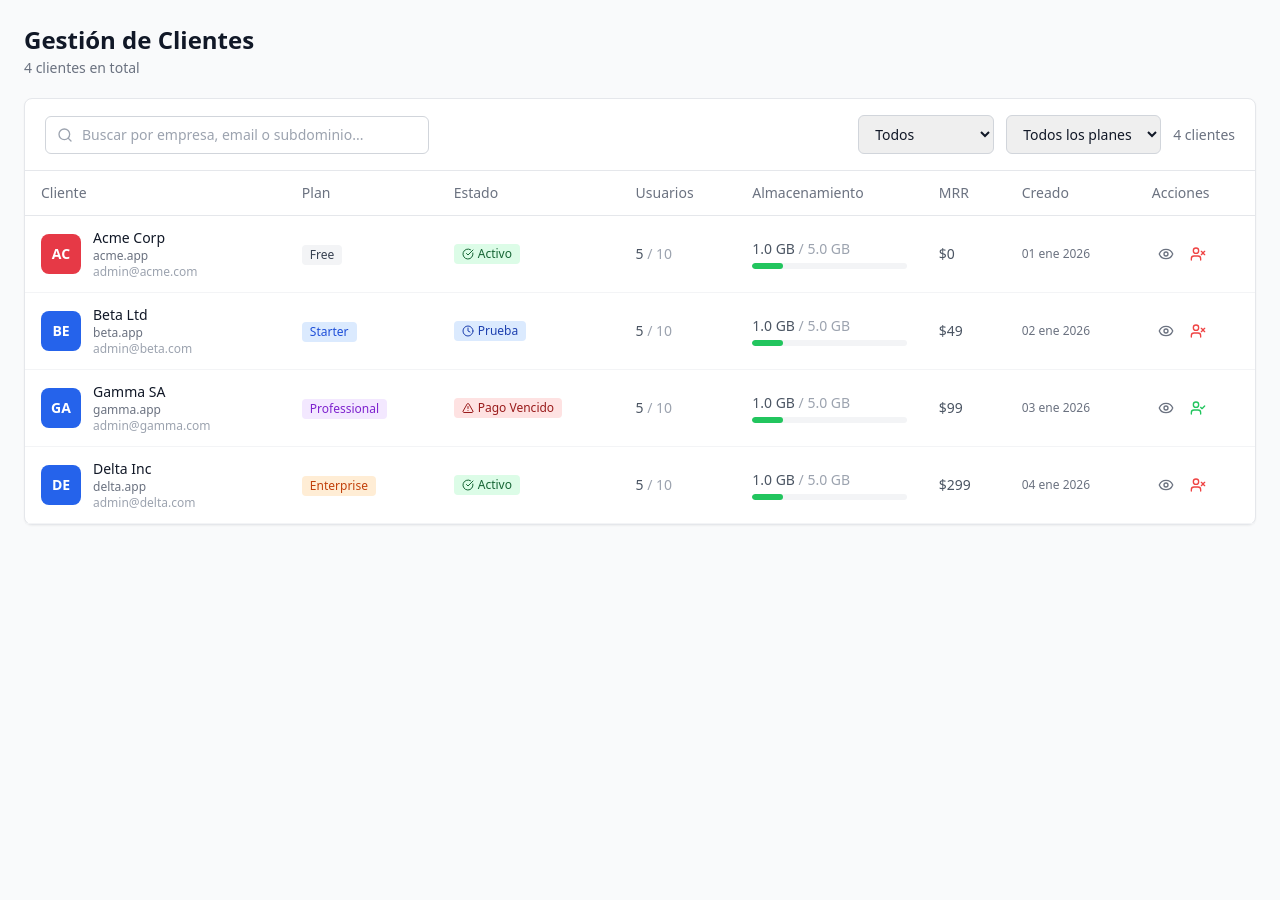
Test: ClientsPage › suspender muestra modal de confirmación y cancelar lo cierra
Click Suspender en la primera fila activa
Click the button titled "Suspender" in the row of "Acme Corp" at point(1198, 254), box [1184, 240, 1212, 268]
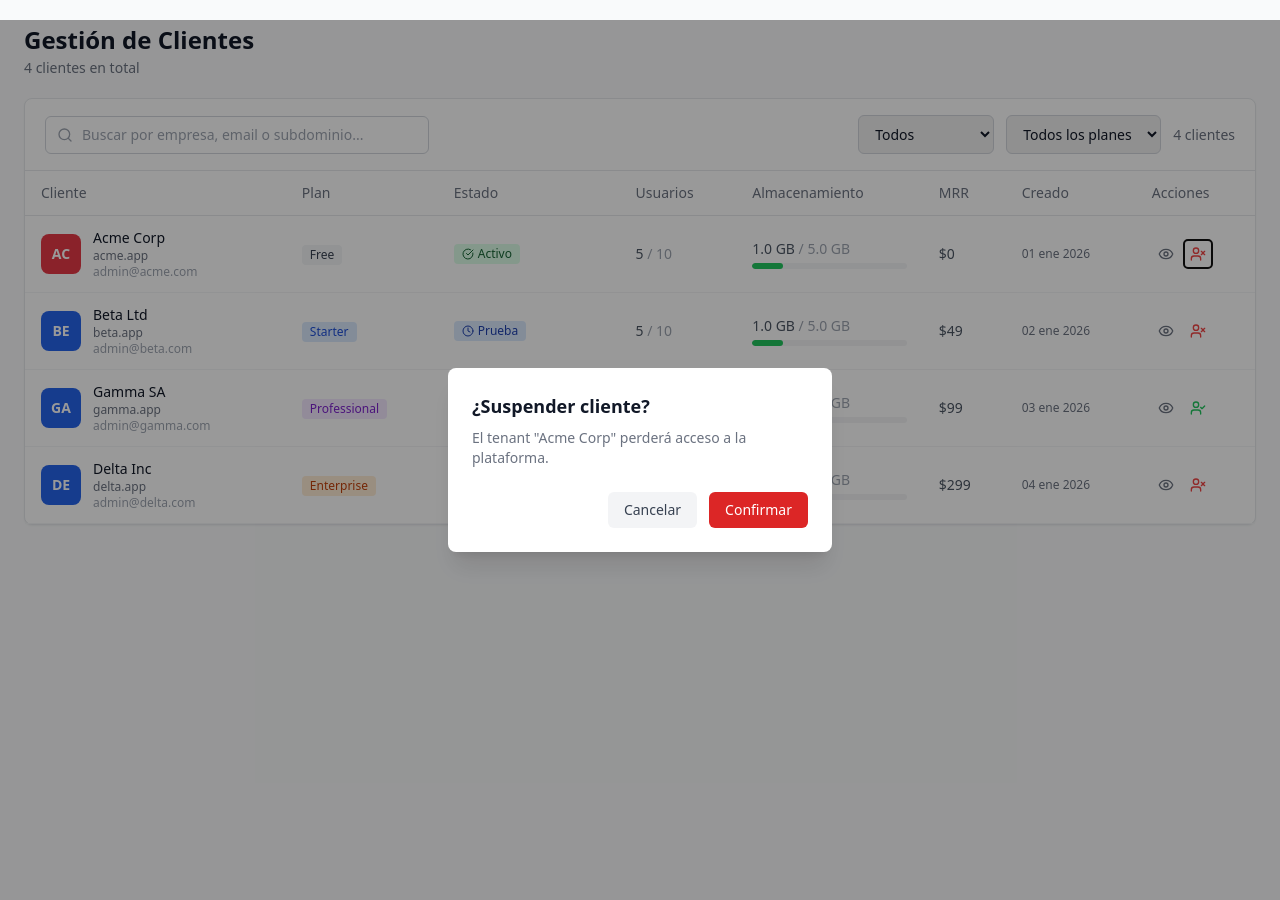
Check: the heading "¿Suspender cliente?" is shown, box [472, 394, 650, 418]
Cancelar cierra el modal
Click the button "Cancelar" at point(652, 510), box [608, 492, 697, 528]
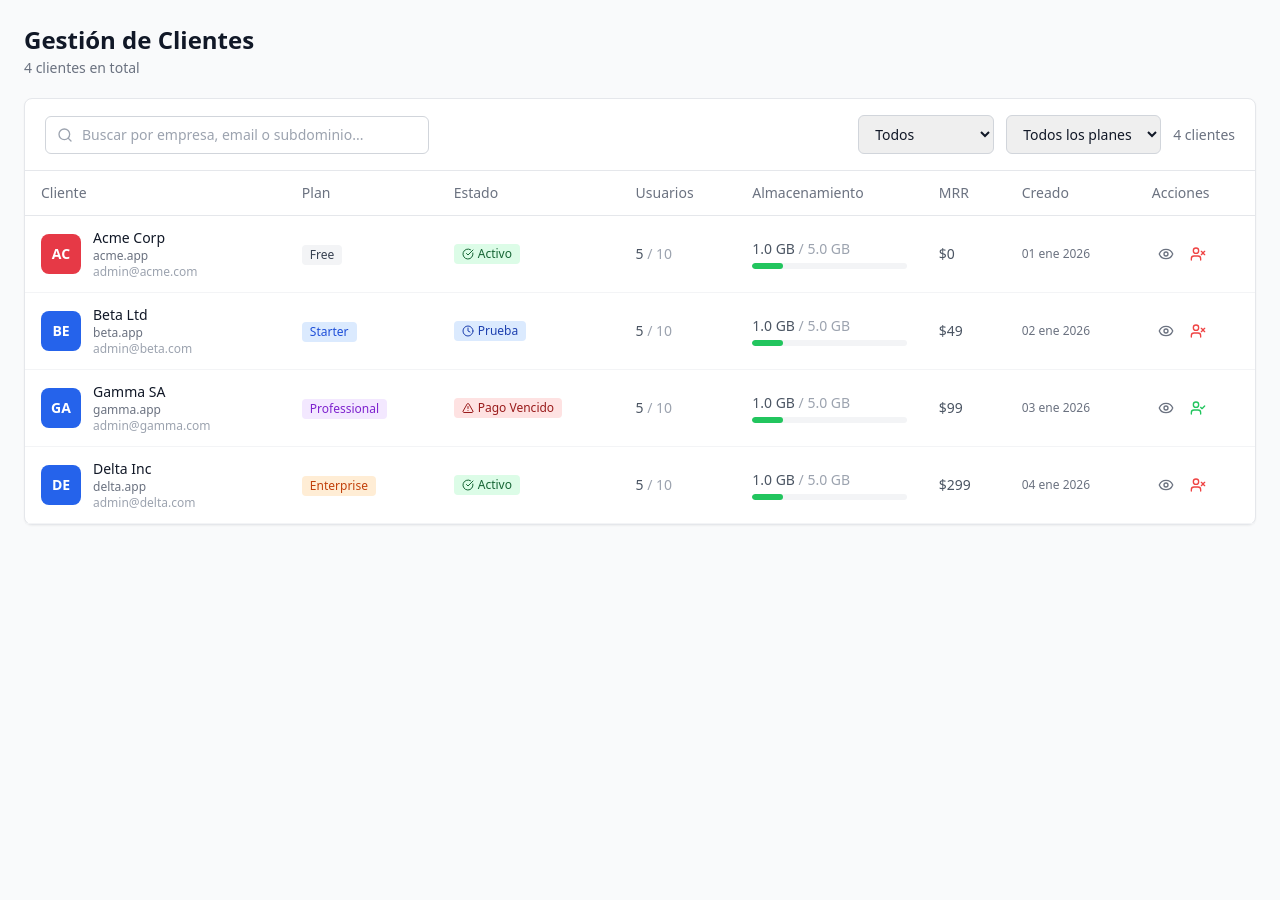
Check: the heading "Suspender cliente" is gone
